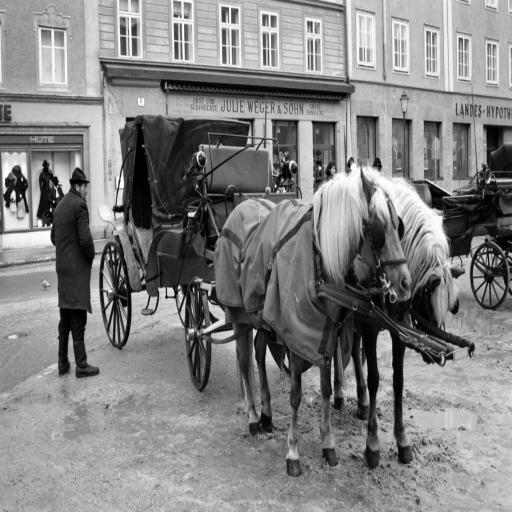Horse: (213, 167, 412, 478), (331, 174, 466, 472)
